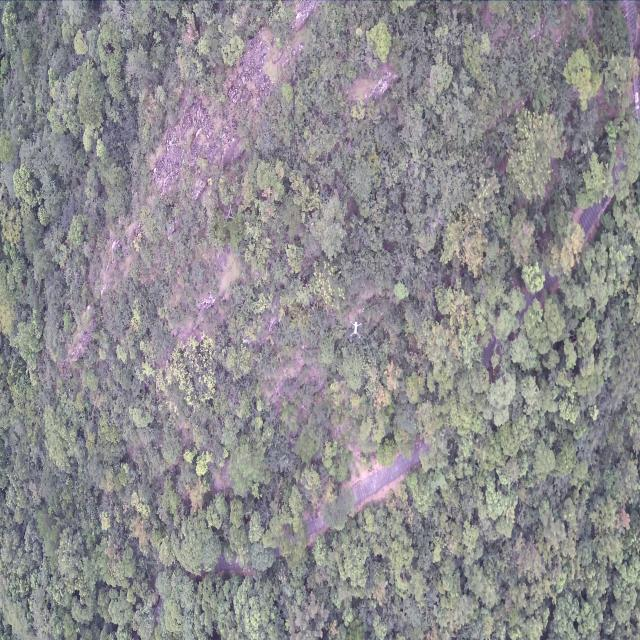drone: (350, 320, 362, 338)
